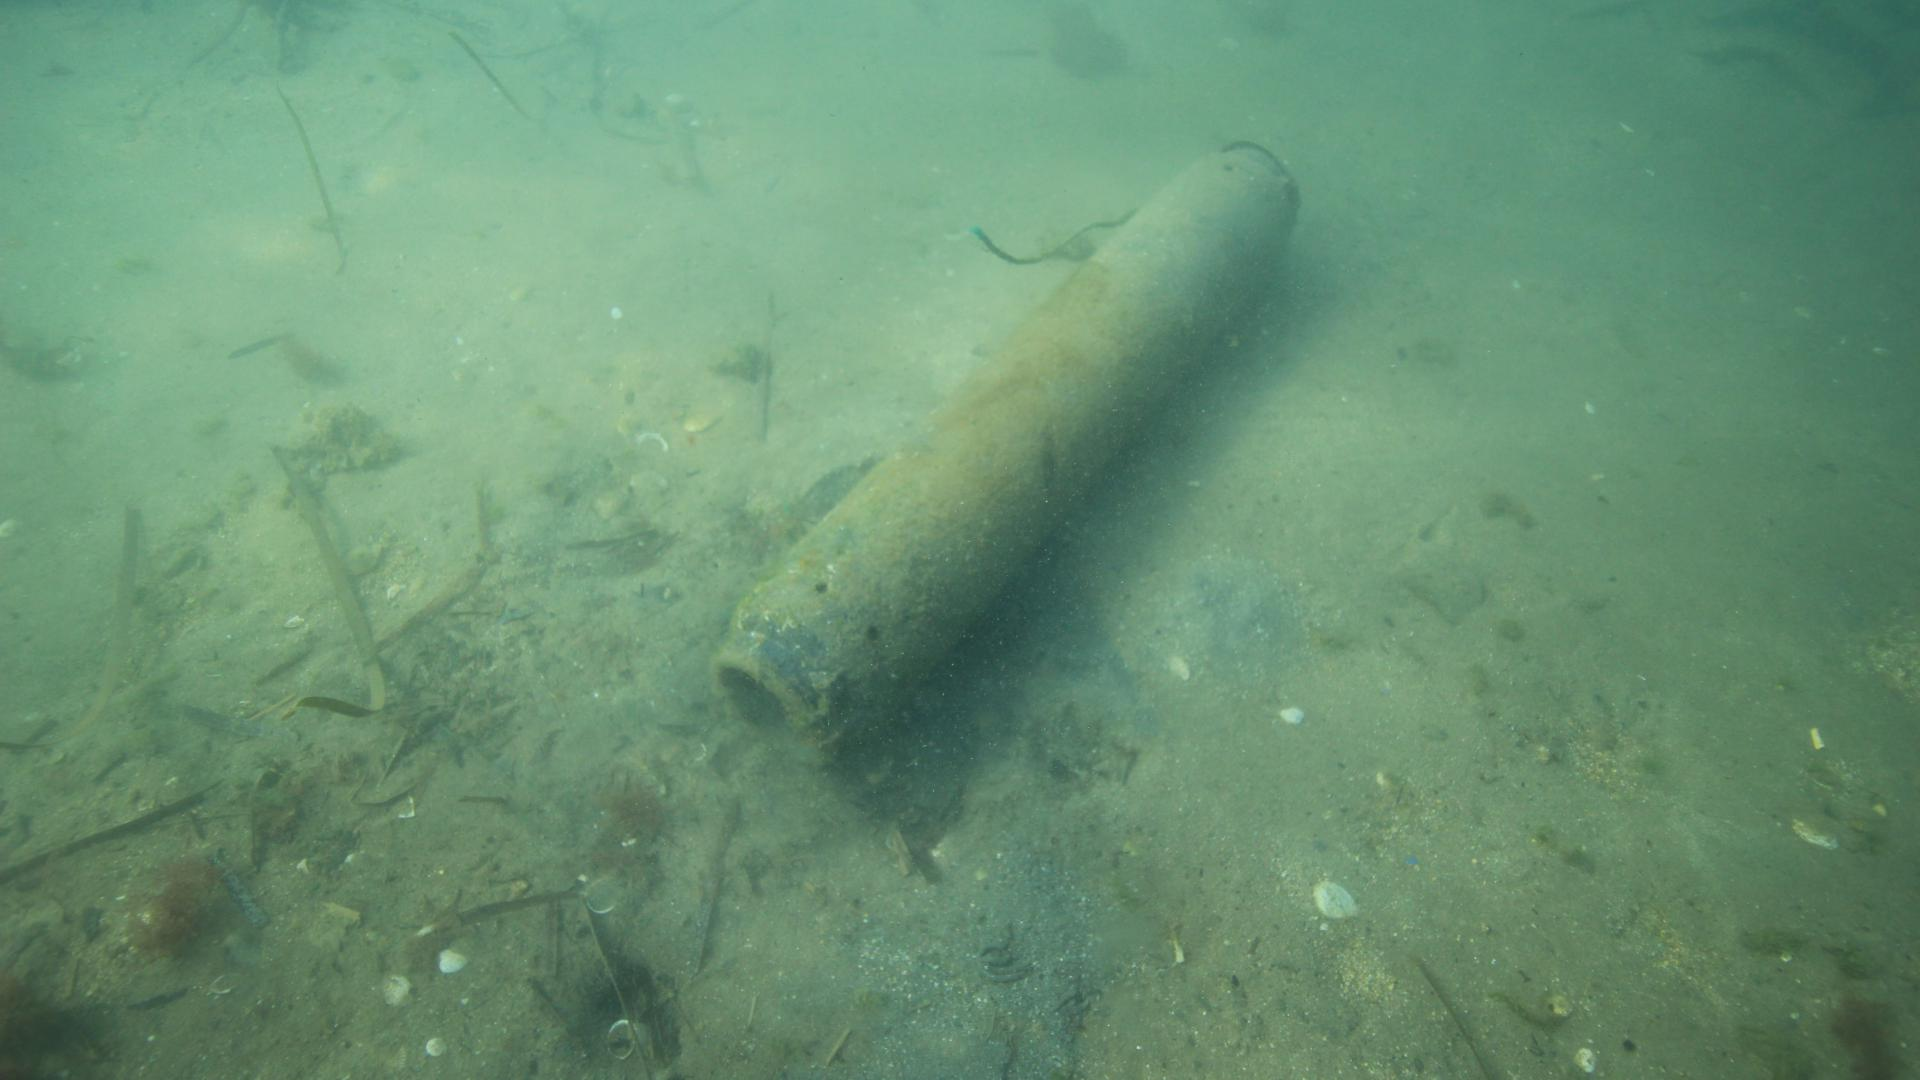eel fish trap: (711, 137, 1305, 736)
rope: (967, 196, 1141, 269)
